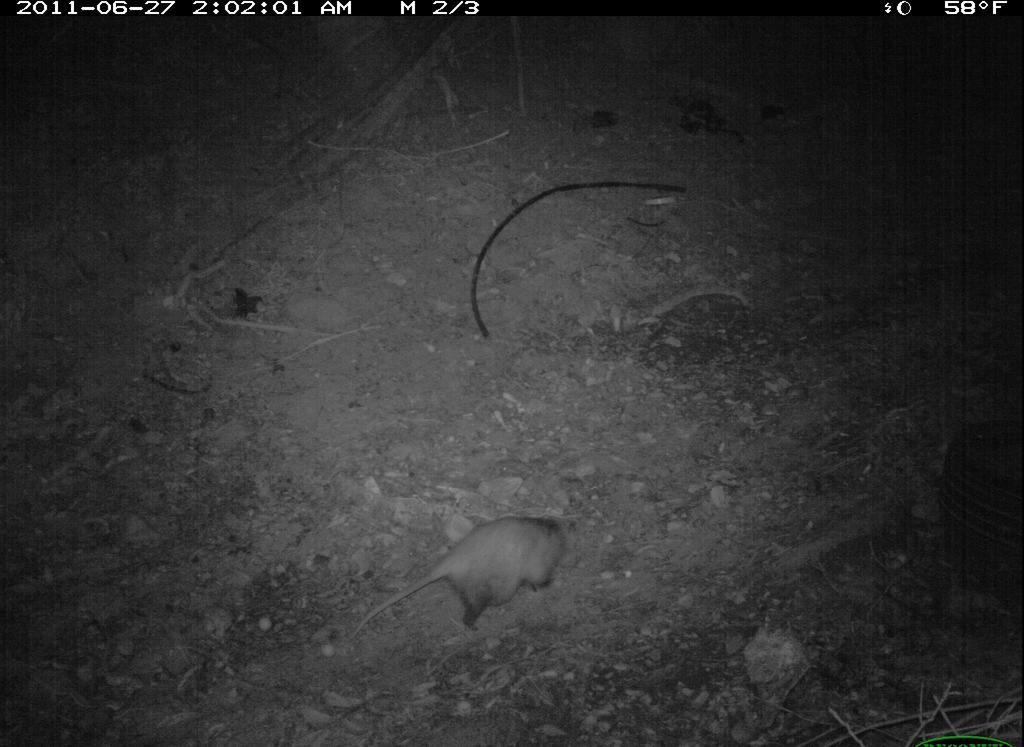opossum: (344, 509, 589, 655)
